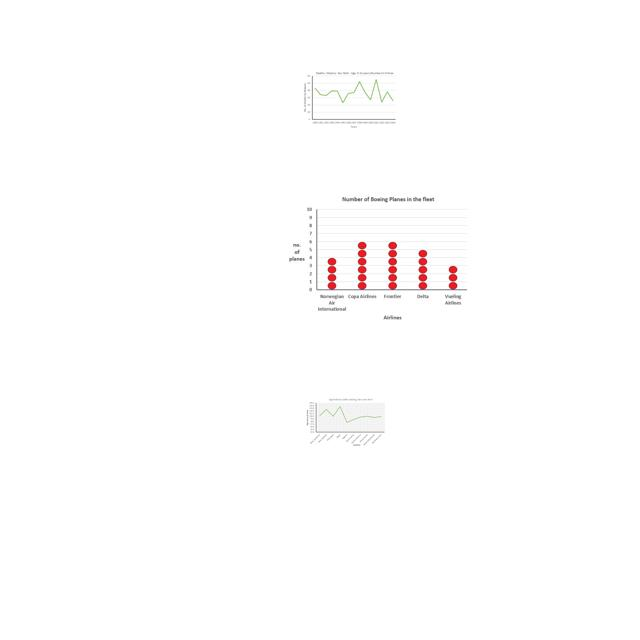Graph: (287, 194, 467, 324), (300, 70, 398, 129), (304, 397, 386, 446)
